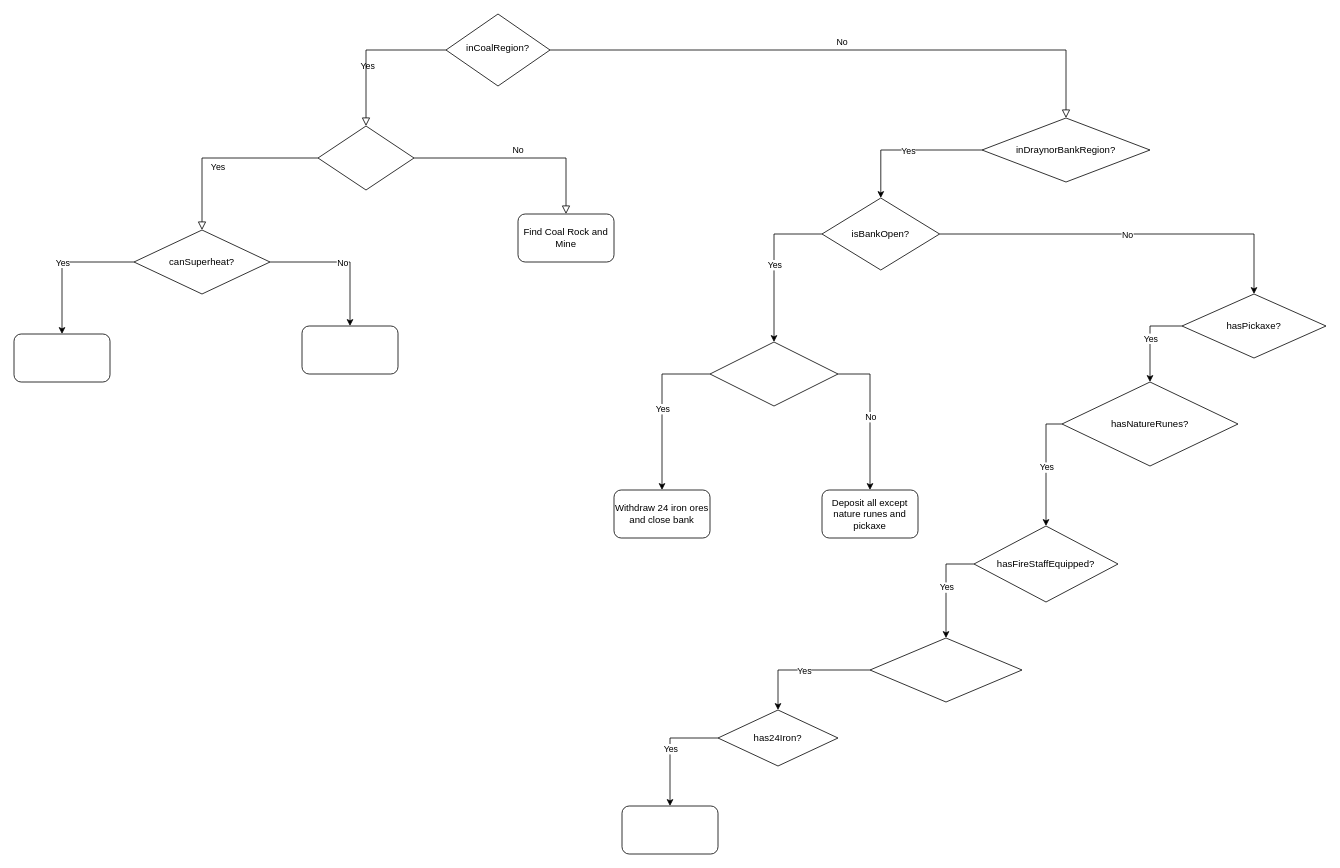
Some shapes in this 1340 by 868 pixel diagram are drawn without their labels. Each missing label, with the centre of its shape:
"has2FreeInvSlots?" goes at pixel 945 669.
"inventory has 26 empty slots?" goes at pixel 773 373.
"isInventoryFull?" goes at pixel 365 157.
"Make Steel Bar" goes at pixel 61 357.
"Walk to Bank" goes at pixel 349 349.
"Walk to Coal Region" goes at pixel 669 829.
